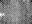person: (1, 12, 6, 17)
